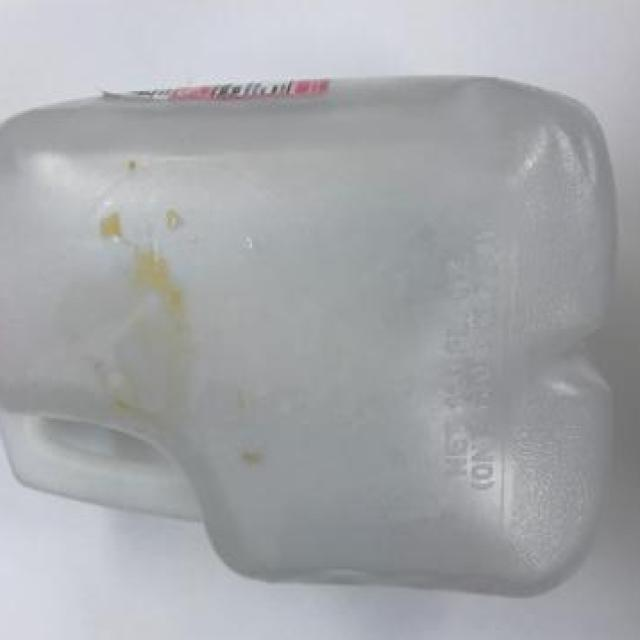organic: (6, 49, 619, 604)
